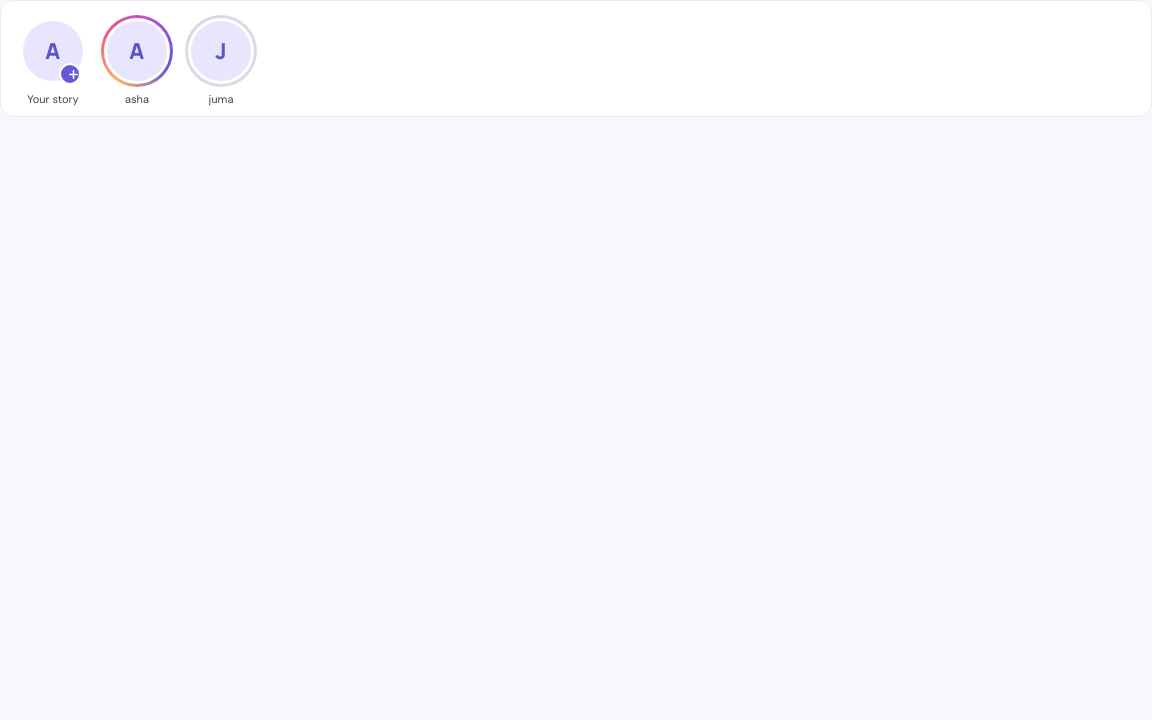
Test: StoriesBar › shows unseen rings before seen ones and opens the full-screen viewer
The width and height of the screenshot is (1152, 720).
Expected: the element with class "fresh" is shown, top-left (101, 15), bottom-right (173, 87)
Expected: the element with class "seen" is shown, top-left (185, 15), bottom-right (257, 87)
Click the button with aria-label "Watch asha's story": [136, 60] box top-left (101, 15), bottom-right (171, 106)
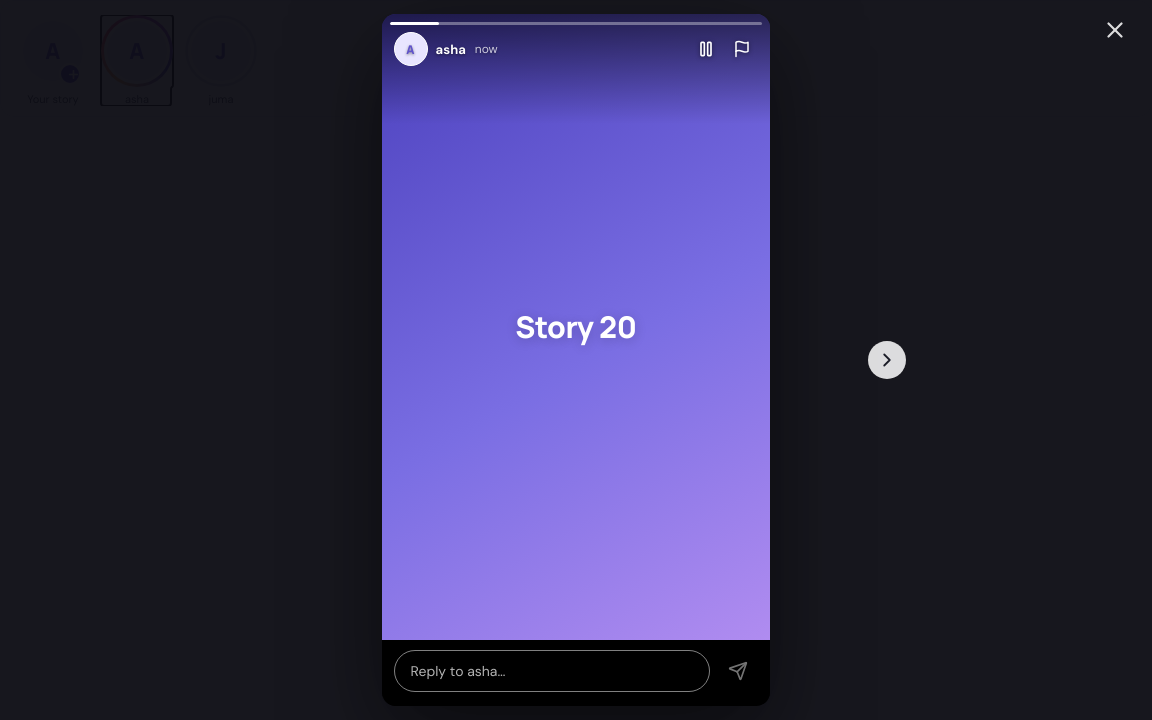
Expected: the dialog named "Stories from asha" is shown
